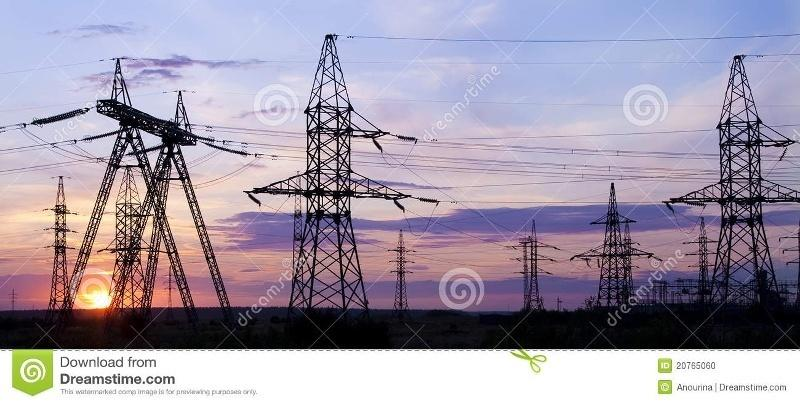power_tower: (280, 31, 382, 319), (694, 51, 787, 315)
